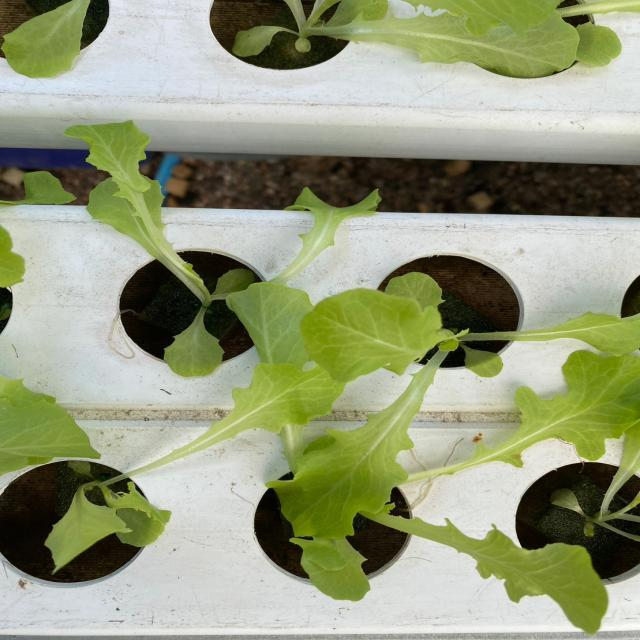Lettuce-Not-Ready-to-Harvest: (272, 272, 640, 538), (45, 359, 345, 571), (70, 121, 251, 376), (410, 352, 640, 481), (375, 512, 608, 632), (285, 0, 580, 77), (550, 421, 640, 542), (272, 188, 381, 283), (232, 26, 286, 56)
